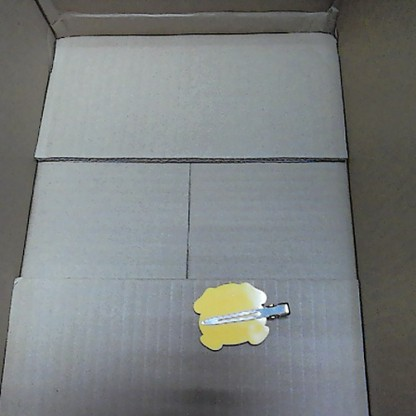dogclip: (190, 275, 292, 350)
